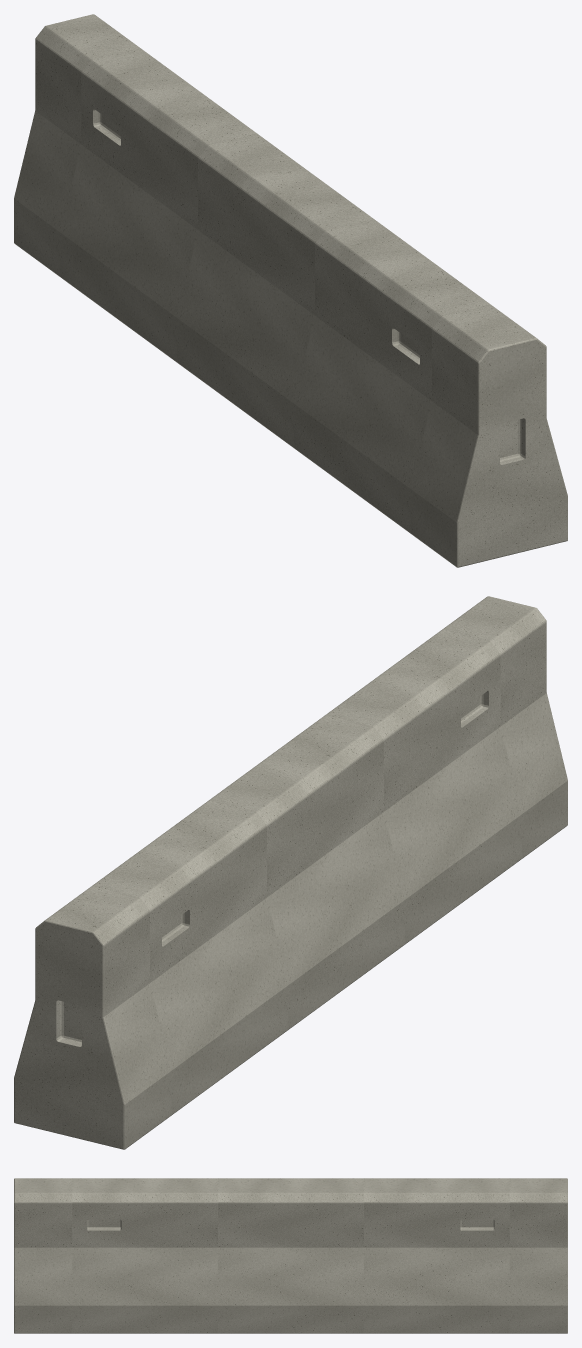
File: aurel-concrete-barriers.glb
The picture shows the model from 3 angles, top to bottom: view 1: azimuth 30°, elevation 25°; view 2: azimuth 150°, elevation 25°; view 3: azimuth 270°, elevation 25°; orthographic projection. The views are drawn at different scales.
Parts seen in each view (by area): view 1: A01_CHIPPED_LOD0, A01_CLEAN_LOD0; view 2: A01_CHIPPED_LOD0, A01_CLEAN_LOD0; view 3: A01_CHIPPED_LOD0, A01_CLEAN_LOD0.
Boxes of the visible parts, bbox=[...] form: A01_CHIPPED_LOD0: bbox=[14, 14, 567, 567]; A01_CLEAN_LOD0: bbox=[14, 111, 543, 564]; A01_CHIPPED_LOD0: bbox=[14, 596, 567, 1149]; A01_CLEAN_LOD0: bbox=[105, 694, 567, 1147]; A01_CHIPPED_LOD0: bbox=[14, 1178, 567, 1333]; A01_CLEAN_LOD0: bbox=[15, 1247, 566, 1333].
Size of what is drawn, in the model's own units: 0.55 by 0.995 by 3.8.
1 material, 1 textured.
